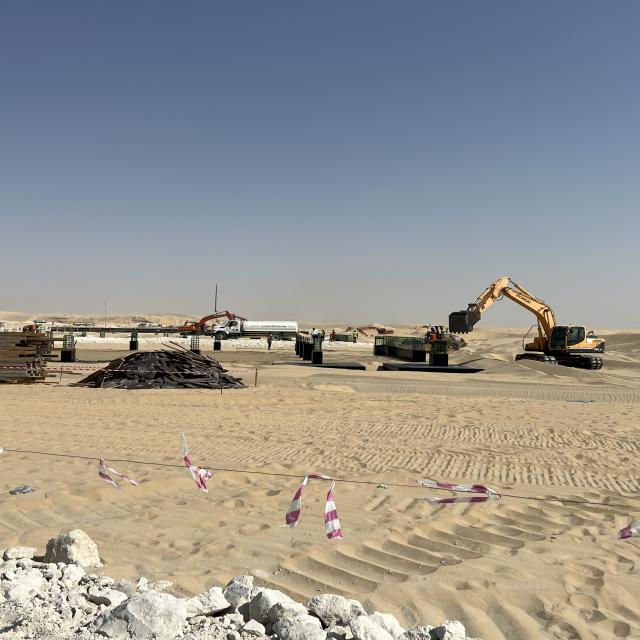Excavator: (449, 271, 607, 382)
